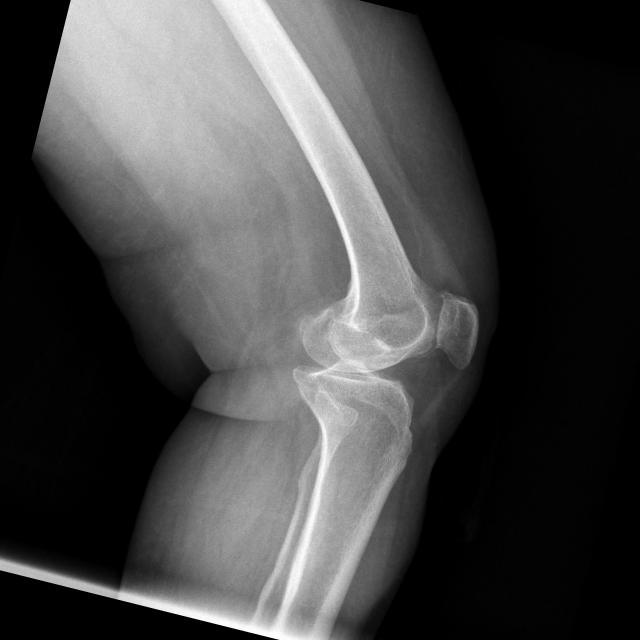Knee: (278, 256, 492, 477)
